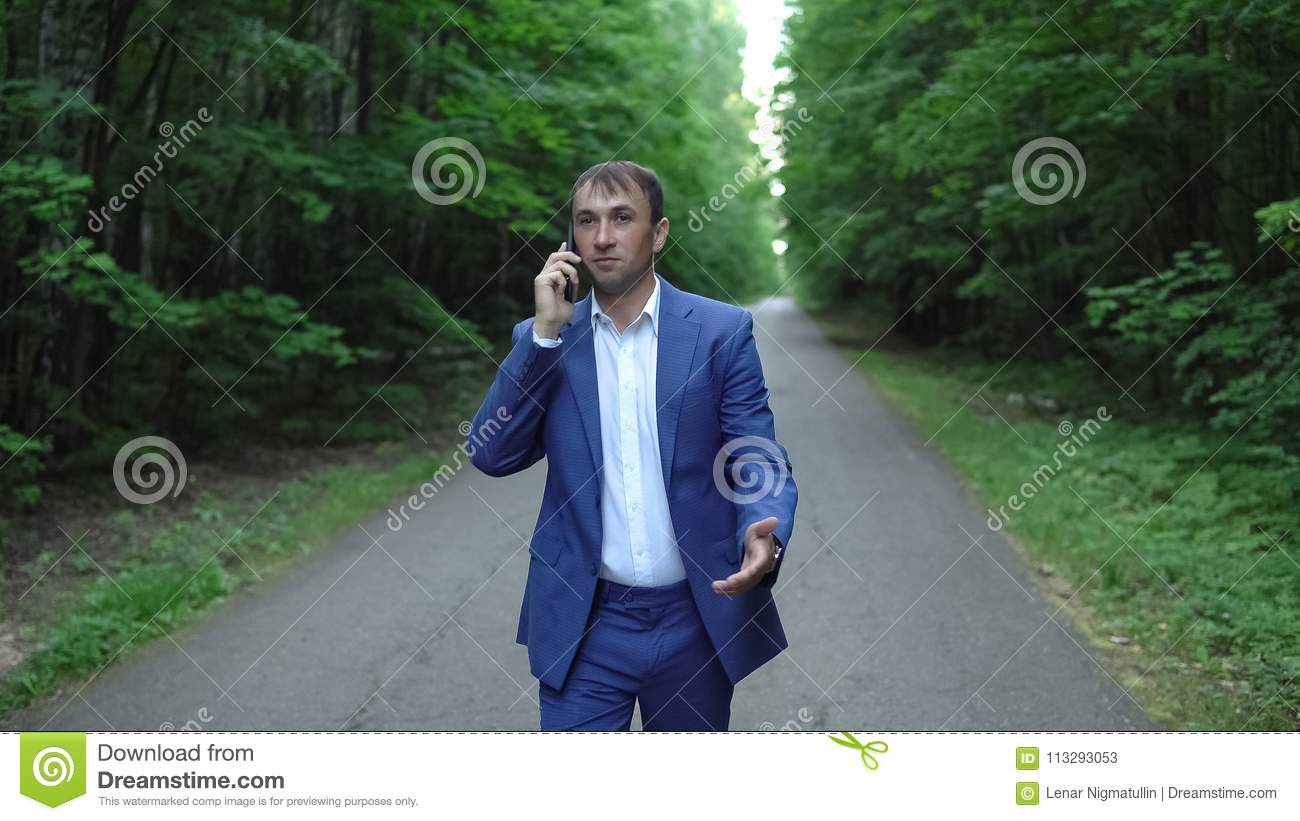phone: (553, 217, 586, 309)
talk: (532, 203, 639, 326)
